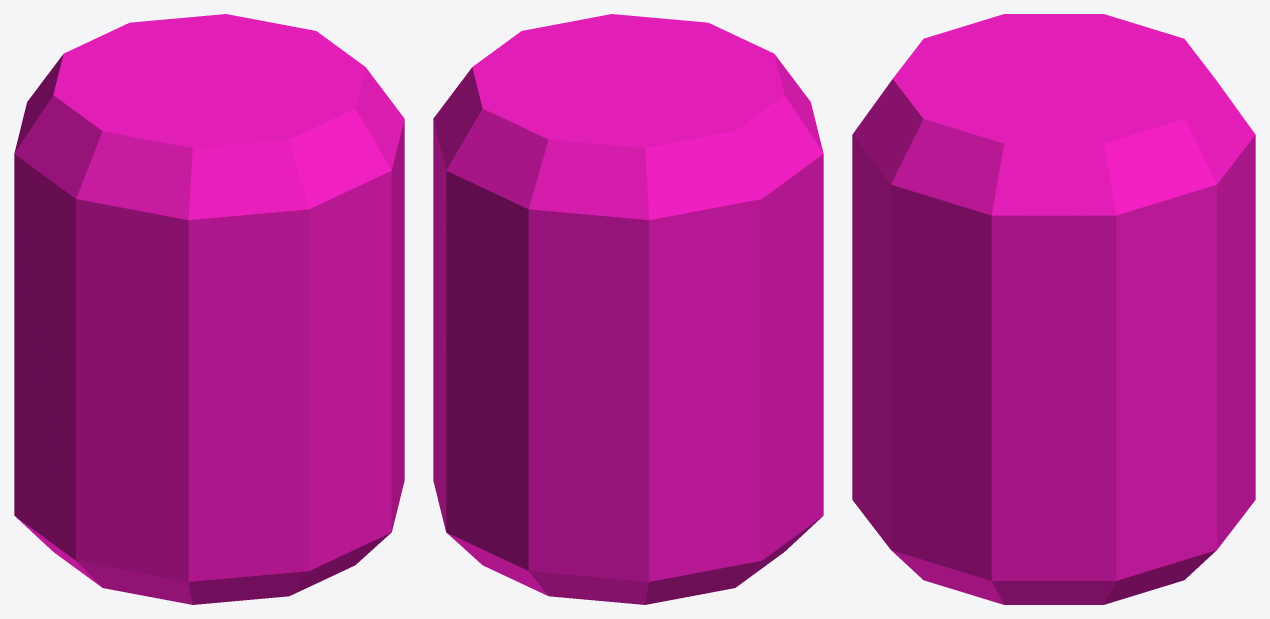
Rendered from SM_ItemPickup.001.fbx.
3 views of the same model, side by side, from view 1: azimuth 30°, elevation 25°; view 2: azimuth 150°, elevation 25°; view 3: azimuth 270°, elevation 25° (orthographic).
Parts seen in each view (by area): view 1: SM_ItemPickup.001; view 2: SM_ItemPickup.001; view 3: SM_ItemPickup.001.
Boxes of the visible parts, x1,y1,x2,y2 form: SM_ItemPickup.001: (14,14,404,604); SM_ItemPickup.001: (433,14,823,604); SM_ItemPickup.001: (852,14,1255,604).
Bounding box in the file's own units: 0.1147 × 0.1206 × 0.1523.
